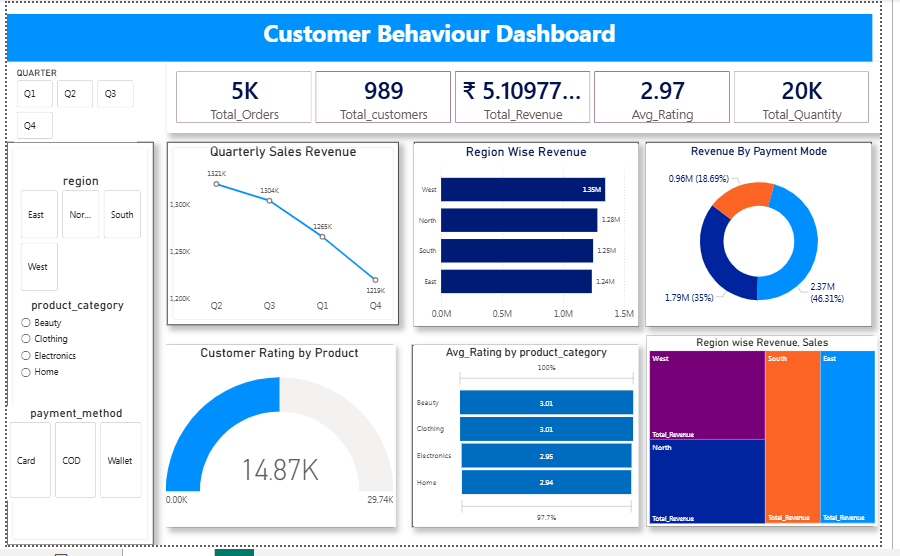

Layout of this report page (visuals, bound fields, positions):
{"tool":"powerbi","page":{"name":"Page 1","canvas":[1580,980],"ordinal":0},"visuals":[{"type":"cardVisual","fields":{"Data":["Ecom_data.Total_Orders","Ecom_data.Total_customers","Ecom_data.Total_Revenue","Ecom_data.Avg_Rating","Ecom_data.Total_Quantity"]},"box":[289.1,105.9,1290.9,128],"z":0},{"type":"lineChart","title":"Quarterly Sales Revenue","fields":{"Category":["Ecom_data.QUARTER"],"Y":["Sum(Ecom_data.revenue)"]},"box":[288.8,255,420.3,314.7],"z":1000},{"type":"shape","box":[0,19.9,1564.6,86.1],"z":2000},{"type":"textbox","box":[0,19.9,1564.6,86.1],"z":3000},{"type":"shape","box":[289.1,251.6,419.3,331],"z":4000},{"type":"shape","box":[735,251,406.3,332.6],"z":5000},{"type":"shape","box":[1155.3,251,408.3,332.6],"z":6000},{"type":"clusteredBarChart","title":"Region Wise Revenue","fields":{"Category":["Ecom_data.region"],"Y":["Sum(Ecom_data.revenue)"]},"box":[735,255,406.3,328.7],"z":7000},{"type":"donutChart","title":"Revenue By Payment Mode","fields":{"Category":["Ecom_data.payment_method"],"Y":["Sum(Ecom_data.revenue)"]},"box":[1155.3,255,408.3,328.7],"z":8000},{"type":"shape","box":[289.1,617.9,408.2,328.8],"z":8001},{"type":"shape","box":[732.6,617.9,408.2,328.8],"z":8002},{"type":"shape","box":[1156.3,602.4,408.2,344.2],"z":8003},{"type":"gauge","title":"Customer Rating by Product","fields":{"Y":["Sum(Ecom_data.customer_rating)"]},"box":[282.5,617.9,421.5,328.8],"z":8004},{"type":"funnel","fields":{"Category":["Ecom_data.product_category"],"Y":["Ecom_data.Avg_Rating"]},"box":[735,617.5,406.3,328.7],"z":8005},{"type":"treemap","title":"Region wise Revenue, Sales","fields":{"Group":["Ecom_data.region"],"Values":["Ecom_data.Total_Revenue","Ecom_data.Total_Quantity"]},"box":[1156.3,602.4,417.1,344.2],"z":8006},{"type":"shape","box":[0,251,264.9,729],"z":8008},{"type":"advancedSlicerVisual","fields":{"Values":["Ecom_data.region"]},"box":[19.9,306.7,227.1,219.1],"z":8009},{"type":"listSlicer","fields":{"Values":["Ecom_data.product_category"]},"box":[19.9,533.8,215.1,223.1],"z":8010},{"type":"advancedSlicerVisual","fields":{"Values":["Ecom_data.payment_method"]},"box":[0,729,251,171.3],"z":8011},{"type":"advancedSlicerVisual","fields":{"Values":["Ecom_data.QUARTER"]},"box":[12.7,115.7,222.4,135.6],"z":8012}]}

Visuals, with their boxes in screenshot pixels (x1, y1, x2, y2), scaled from the page's 1580x980 canvas onto the 900x556 screenshot:
cardVisual - Ecom_data.Total_Orders x Ecom_data.Total_customers: rect(165, 60, 899, 133)
"Quarterly Sales Revenue" lineChart: rect(165, 145, 404, 323)
shape: rect(0, 11, 891, 60)
textbox: rect(0, 11, 891, 60)
shape: rect(165, 143, 404, 331)
shape: rect(419, 142, 650, 331)
shape: rect(658, 142, 891, 331)
"Region Wise Revenue" clusteredBarChart: rect(419, 145, 650, 331)
"Revenue By Payment Mode" donutChart: rect(658, 145, 891, 331)
shape: rect(165, 351, 397, 537)
shape: rect(417, 351, 650, 537)
shape: rect(659, 342, 891, 537)
"Customer Rating by Product" gauge: rect(161, 351, 401, 537)
funnel - Ecom_data.product_category x Ecom_data.Avg_Rating: rect(419, 350, 650, 537)
"Region wise Revenue, Sales" treemap: rect(659, 342, 896, 537)
shape: rect(0, 142, 151, 555)
advancedSlicerVisual - Ecom_data.region: rect(11, 174, 141, 298)
listSlicer - Ecom_data.product_category: rect(11, 303, 134, 429)
advancedSlicerVisual - Ecom_data.payment_method: rect(0, 414, 143, 511)
advancedSlicerVisual - Ecom_data.QUARTER: rect(7, 66, 134, 143)
